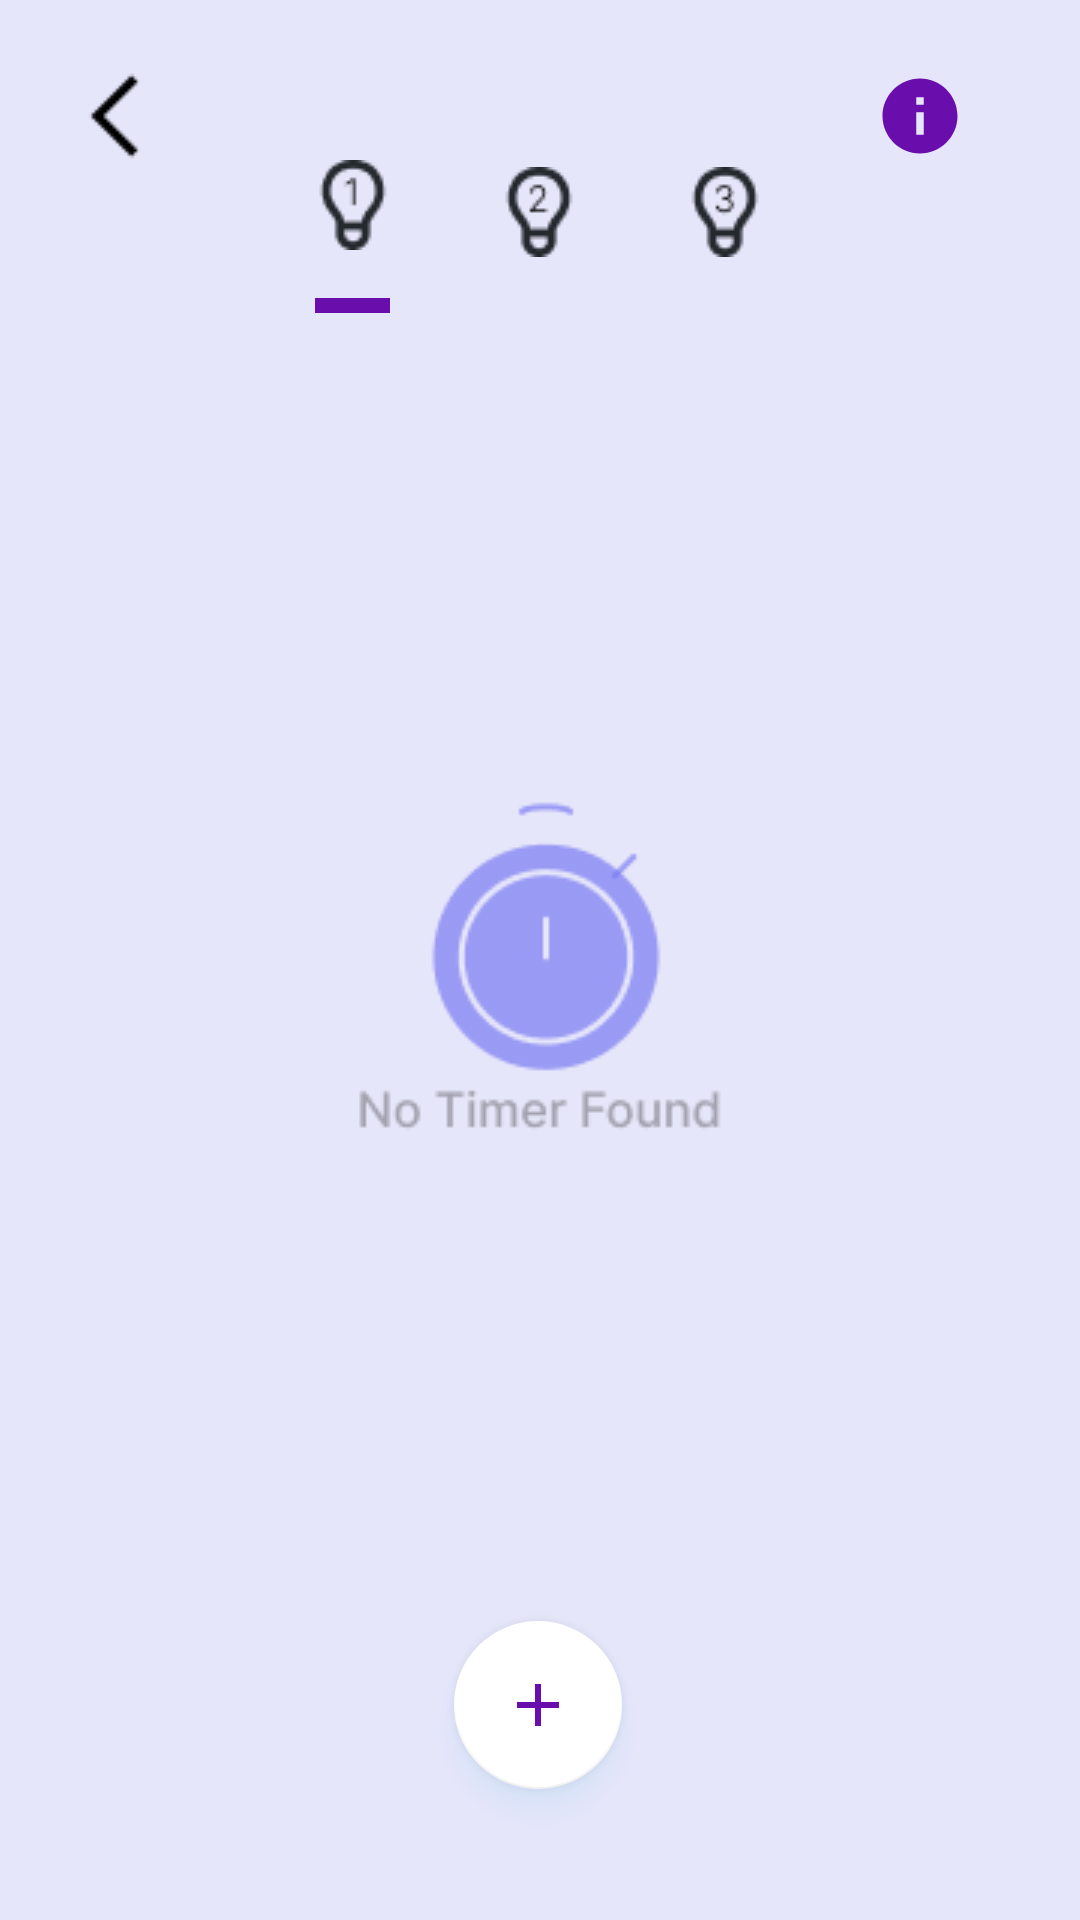

Screen size 1080x1920. Icon name, then its center in pixels as [x,y]:
add: [538,1704]
back: [114,116]
empty data: [539,965]
info: [920,116]
